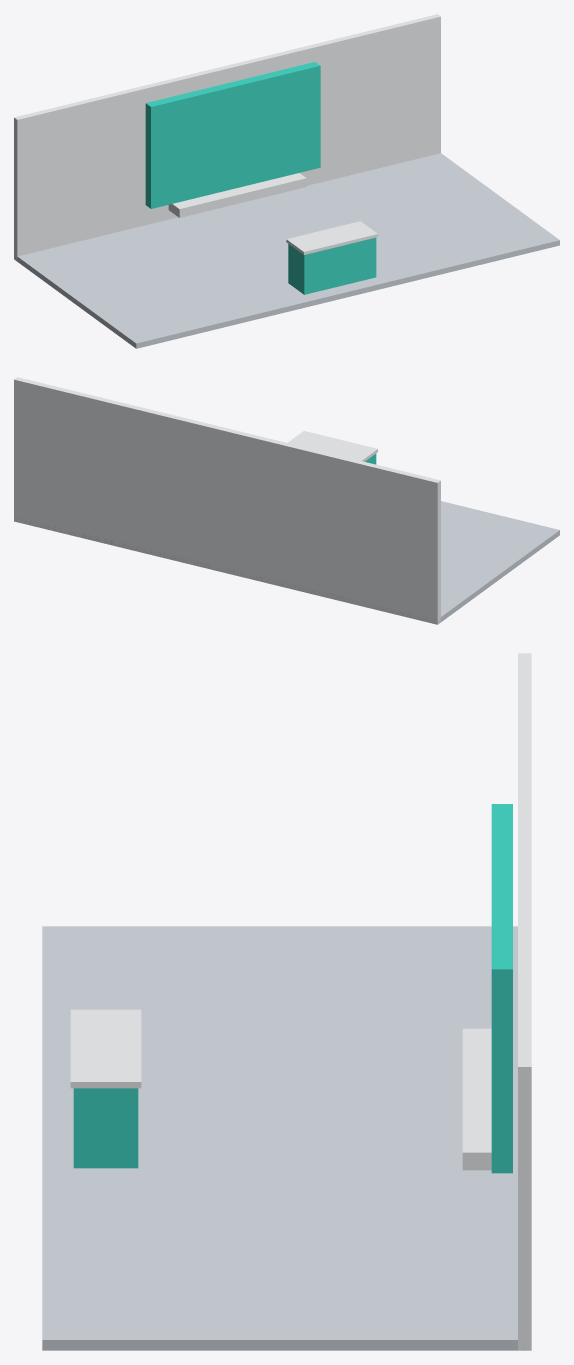
3 renders of one model, top to bottom at view 1: azimuth 30°, elevation 25°; view 2: azimuth 150°, elevation 25°; view 3: azimuth 270°, elevation 25°, orthographic. The views are drawn at different scales.
Visible parts, largest first — view 1: Exhibition Booth Concept; view 2: Exhibition Booth Concept; view 3: Exhibition Booth Concept.
Part boxes in pixels (<box>): Exhibition Booth Concept: <box>14,14,559,348</box>; Exhibition Booth Concept: <box>14,377,559,624</box>; Exhibition Booth Concept: <box>42,653,531,1350</box>.
Size of the model in its own units: 10 by 3.2 by 5.
